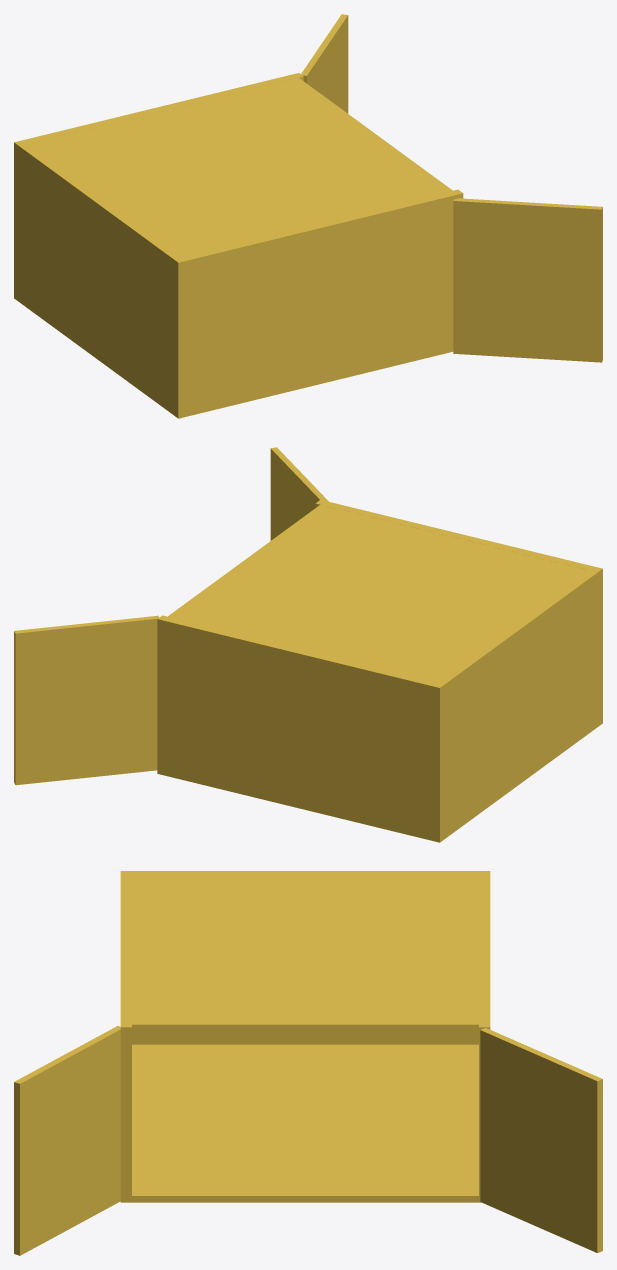
The picture shows the model from 3 angles, top to bottom: view 1: azimuth 30°, elevation 25°; view 2: azimuth 150°, elevation 25°; view 3: azimuth 270°, elevation 25°; orthographic projection. The views are drawn at different scales.
Visible parts, largest first — view 1: Cube, Куб, Куб.002, Куб.001; view 2: Cube, Куб, Куб.001, Куб.002; view 3: Cube, Куб, Куб.001, Куб.002.
Part boxes in pixels (left/top/right/bottom): Cube: left=14, top=73, right=463, bottom=418; Куб: left=28, top=78, right=452, bottom=256; Куб.002: left=453, top=198, right=602, bottom=362; Куб.001: left=301, top=14, right=348, bottom=113; Cube: left=157, top=499, right=602, bottom=842; Куб: left=168, top=505, right=588, bottom=681; Куб.001: left=14, top=615, right=159, bottom=785; Куб.002: left=270, top=447, right=328, bottom=540; Cube: left=120, top=871, right=490, bottom=1202; Куб: left=132, top=876, right=478, bottom=1033; Куб.001: left=480, top=1028, right=602, bottom=1252; Куб.002: left=14, top=1026, right=120, bottom=1255.
Size of the model in its own units: 13.4 by 5.26 by 15.93.
